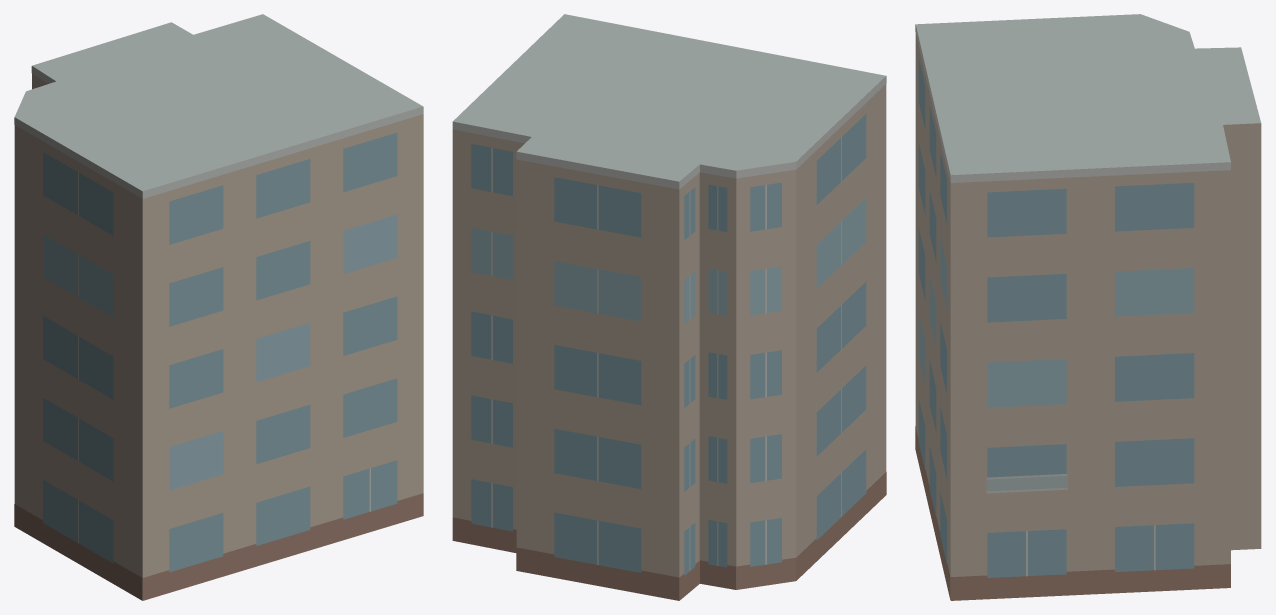
The model's file is survey-upis-33006076.glb.
The picture shows the model from 3 angles, left to right: view 1: azimuth 30°, elevation 25°; view 2: azimuth 150°, elevation 25°; view 3: azimuth 270°, elevation 25°; orthographic projection. The views are drawn at different scales.
Parts seen in each view (by area): view 1: survey-upis-33006076.tmp; view 2: survey-upis-33006076.tmp; view 3: survey-upis-33006076.tmp.
Part boxes in pixels (box(x1,y1,x2,y2)): survey-upis-33006076.tmp: box(14, 14, 423, 600); survey-upis-33006076.tmp: box(452, 14, 886, 600); survey-upis-33006076.tmp: box(915, 14, 1261, 600).
Size of the model in its own units: 10.65 by 13.1 by 9.65.
